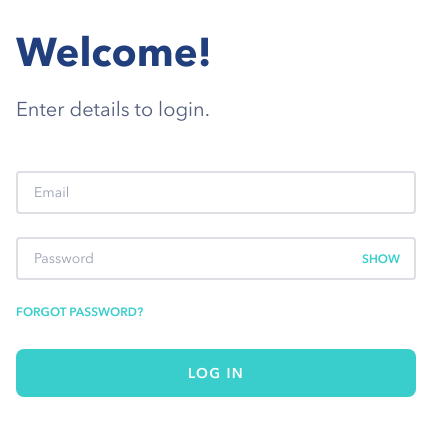
Test case: LoginForm (integration) › shows validation error for short password
Type "user@example.com" into the field with placeholder "Email". click: x=216, y=192
box: [18,173,414,212]
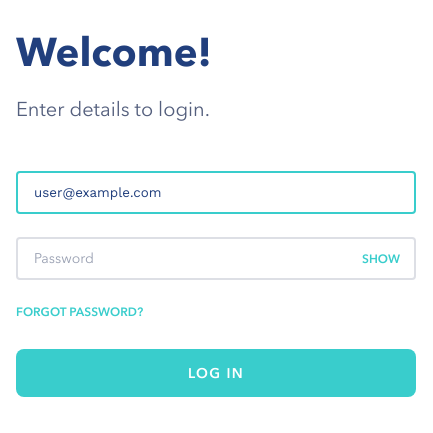
Type "short" into the password field with placeholder "Password". click: x=216, y=258
box: [18,239,414,278]
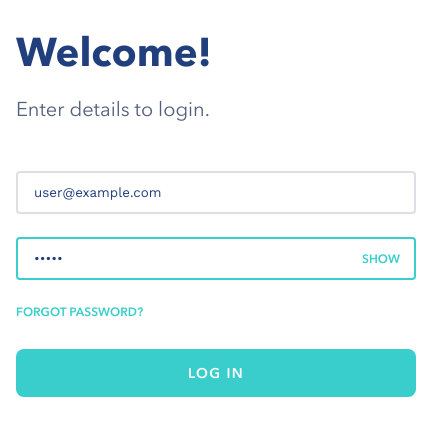
Click the button "Log in". click: x=216, y=373
box: [16,349,416,397]
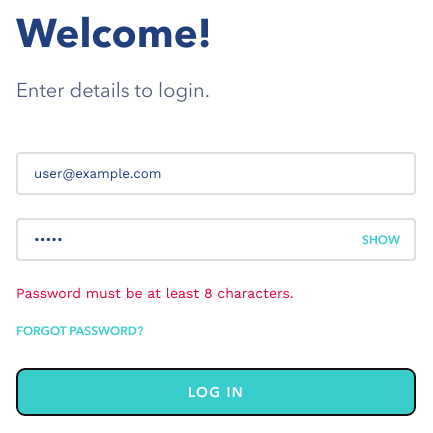
Now the text "Password must be at least 8 characters." is shown, box [16,285,294,301]
